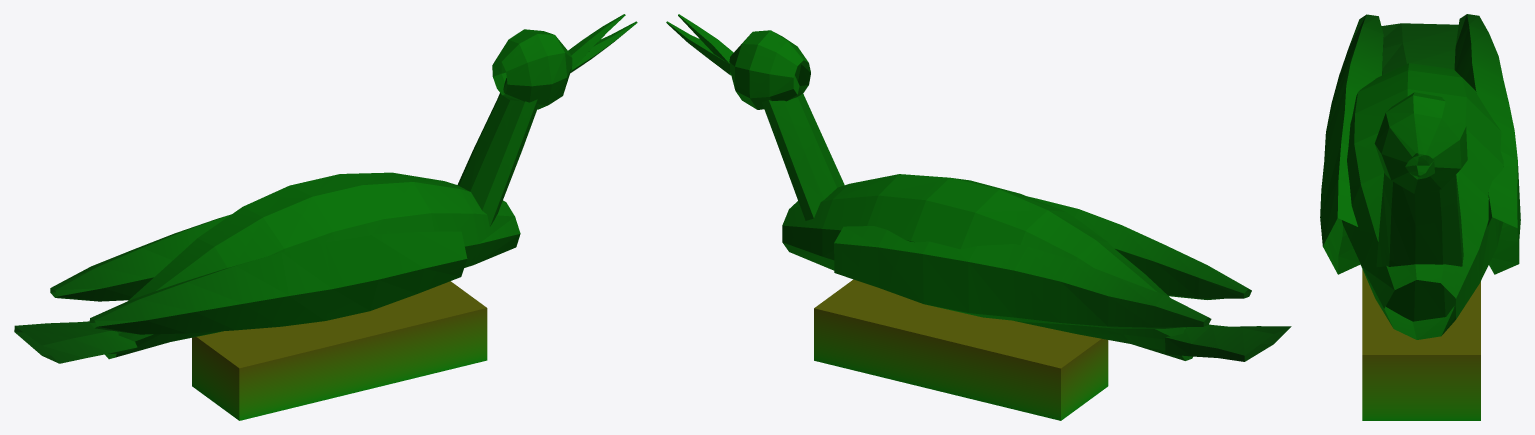
The model's file is lintel_gull_c.glb.
3 views of the same model, side by side, from view 1: azimuth 30°, elevation 25°; view 2: azimuth 150°, elevation 25°; view 3: azimuth 270°, elevation 25° (orthographic). The views are drawn at different scales.
Visible parts, largest first — view 1: lintel_gull_c; view 2: lintel_gull_c; view 3: lintel_gull_c.
Boxes of the visible parts, left/top/right/bottom form: lintel_gull_c: left=14, top=14, right=637, bottom=420; lintel_gull_c: left=666, top=14, right=1291, bottom=420; lintel_gull_c: left=1320, top=14, right=1520, bottom=420.
Size of what is drawn, in the model's own units: 0.8661 by 0.405 by 0.1999.
